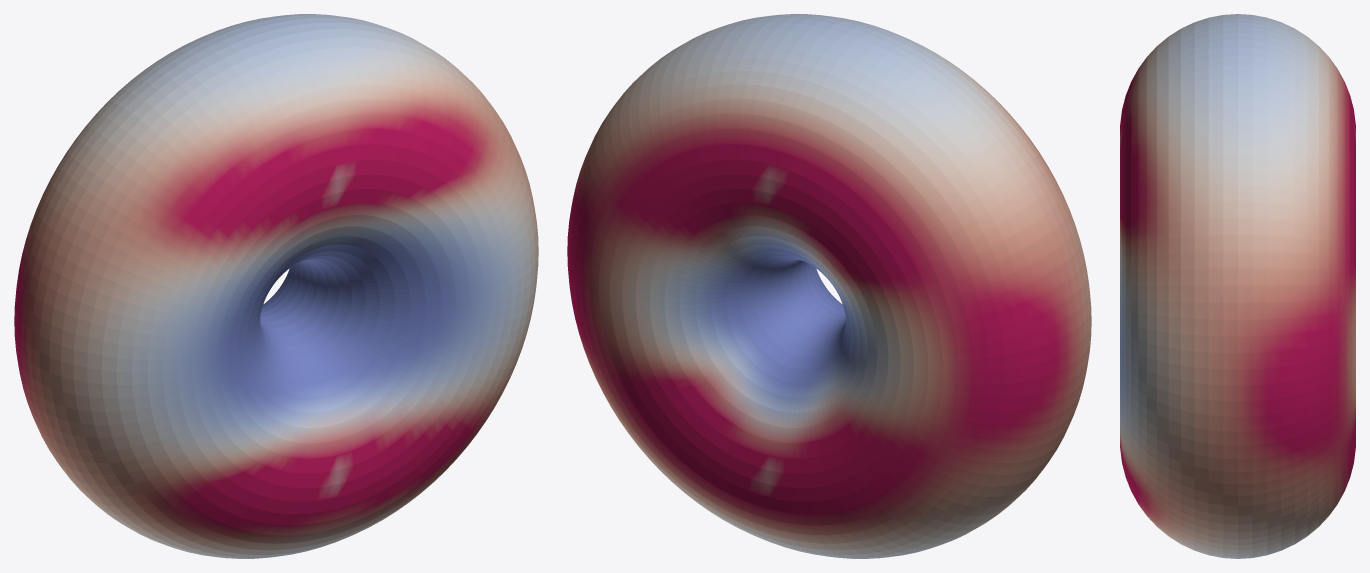
The picture shows the model from 3 angles, left to right: view 1: azimuth 30°, elevation 25°; view 2: azimuth 150°, elevation 25°; view 3: azimuth 270°, elevation 25°; orthographic projection. The views are drawn at different scales.
Parts seen in each view (by area): view 1: world; view 2: world; view 3: world.
Part boxes in pixels (x1,y1,x2,y2): world: (14, 14, 538, 558); world: (567, 14, 1091, 558); world: (1120, 14, 1355, 558).
Size of the model in its own units: 20 by 20 by 8.65.
